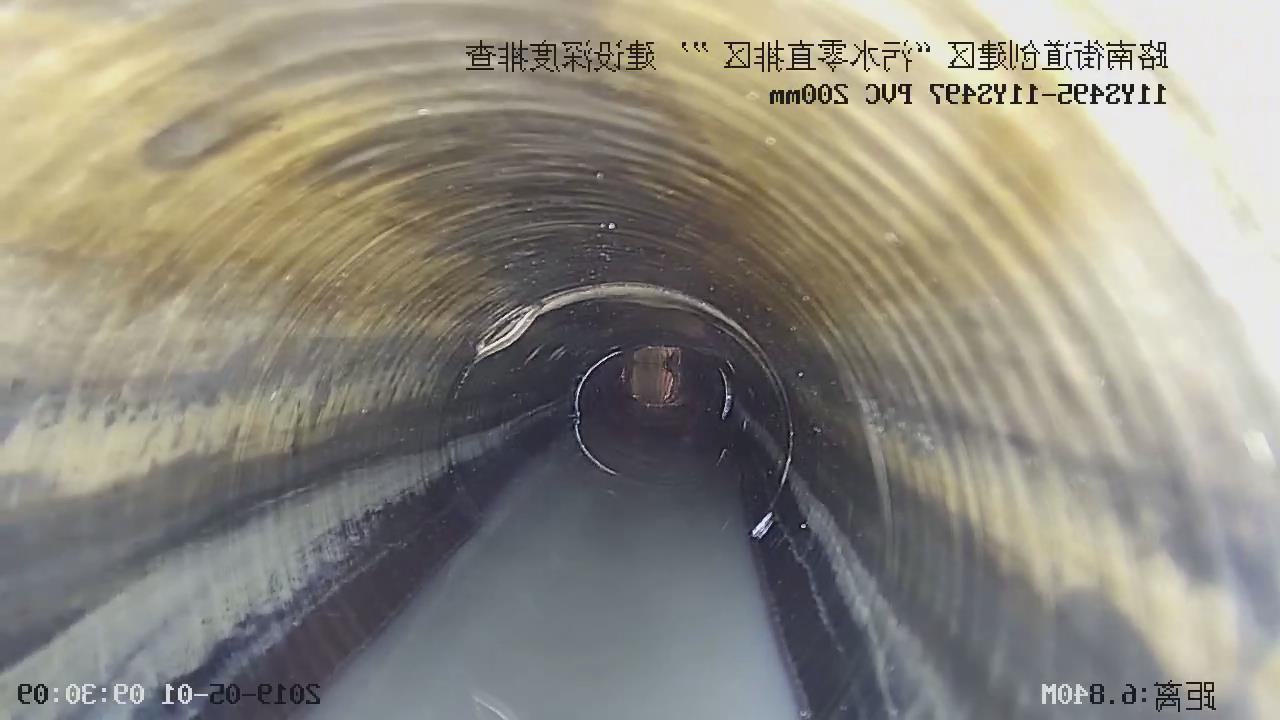JKCL: (444, 278, 797, 411)
